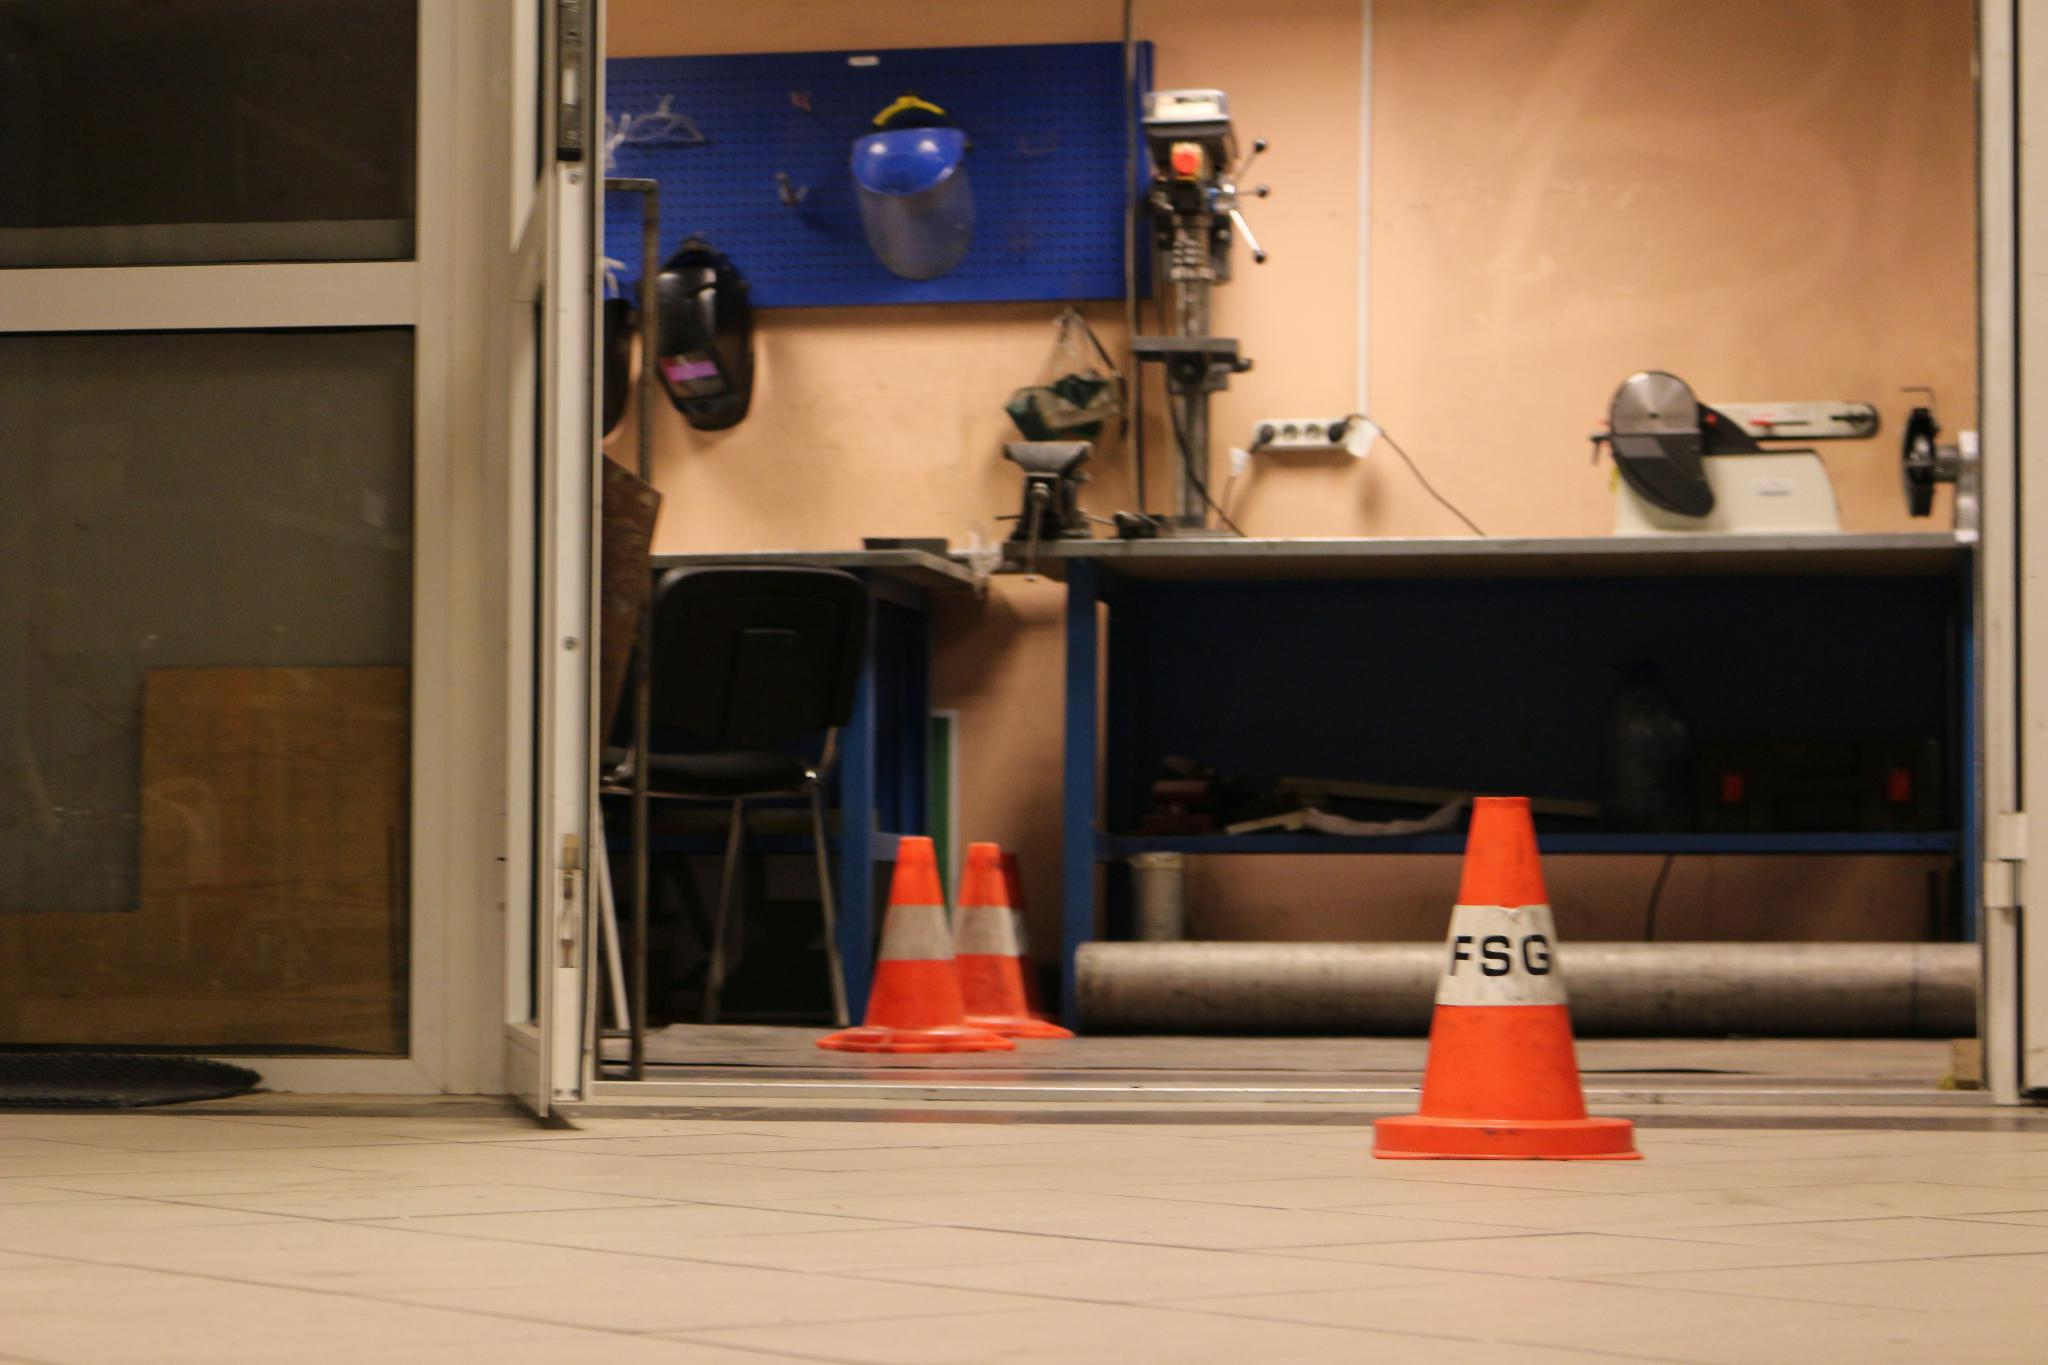Orange_Cone: (1351, 780, 1649, 1170), (828, 835, 1003, 1066), (914, 833, 1073, 1045)
